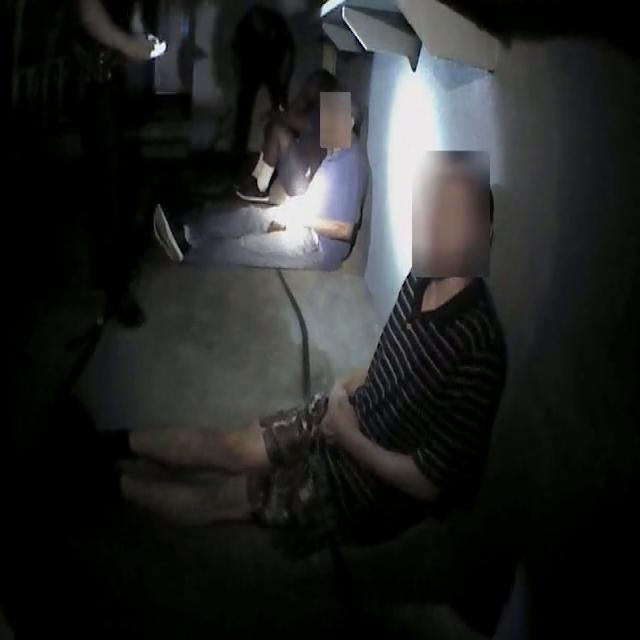gun: (69, 37, 122, 93)
